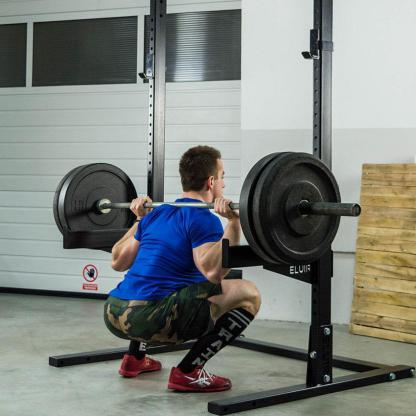Barbell: (236, 146, 350, 272)
